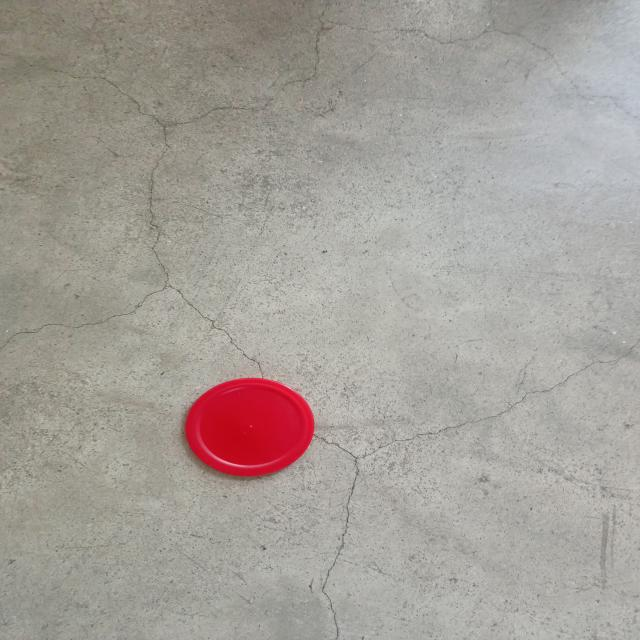chip: (184, 377, 316, 477)
